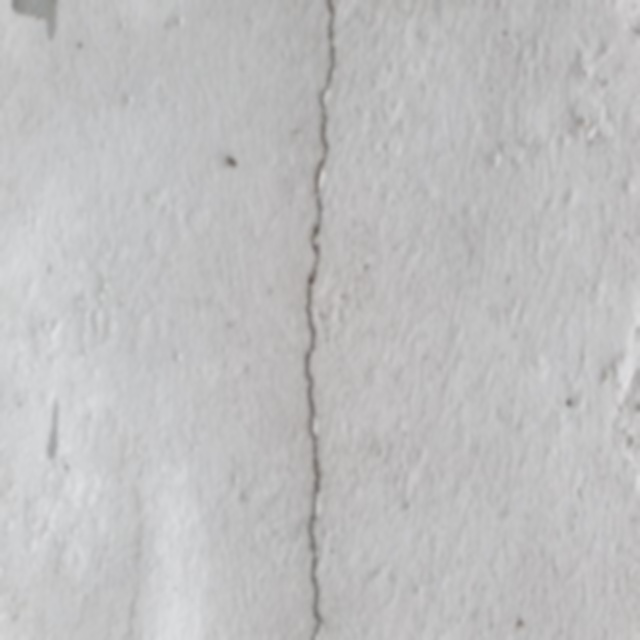SurfaceCrack: (250, 1, 378, 640)
